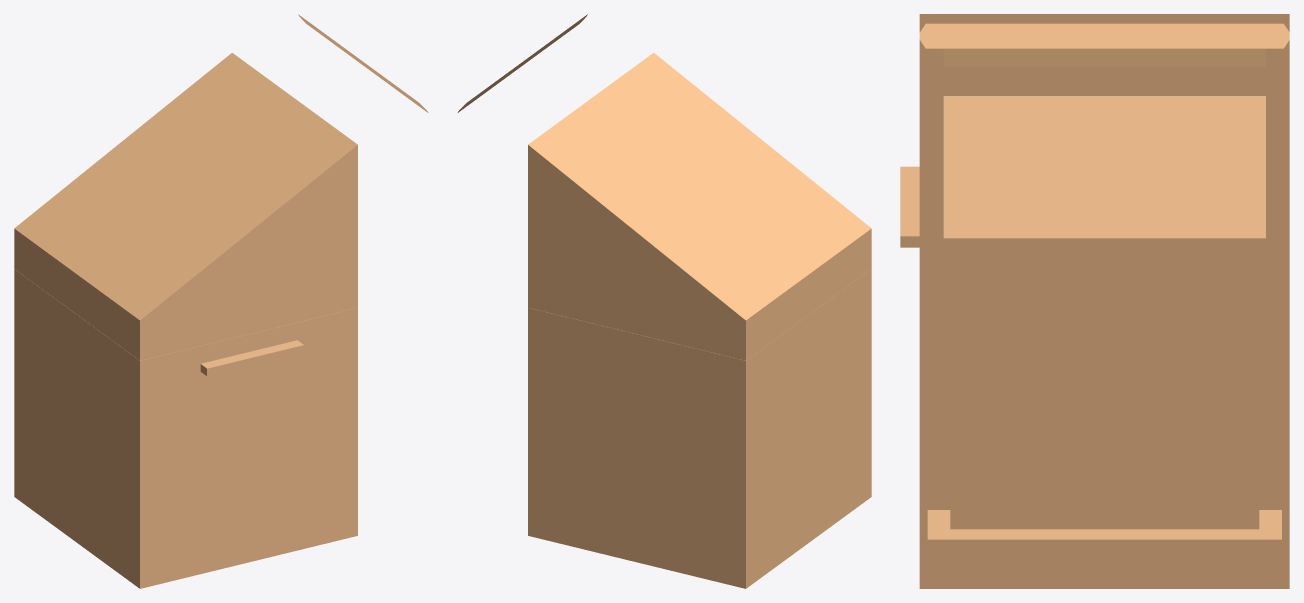
The model's file is hive-top.glb.
The picture shows the model from 3 angles, left to right: view 1: azimuth 30°, elevation 25°; view 2: azimuth 150°, elevation 25°; view 3: azimuth 270°, elevation 25°; orthographic projection. The views are drawn at different scales.
Visible parts, largest first — view 1: Cube.002, Cube, Cube.003, Cube.001; view 2: Cube.002, Cube, Cube.001; view 3: Cube.002, Cube, Cube.001, Cube.003.
Boxes of the visible parts, x1,y1,x2,y2 form: Cube.002: [14, 269, 357, 588]; Cube: [14, 53, 357, 360]; Cube.003: [200, 340, 303, 376]; Cube.001: [298, 14, 428, 112]; Cube.002: [528, 269, 871, 588]; Cube: [528, 53, 871, 360]; Cube.001: [457, 14, 587, 112]; Cube.002: [919, 253, 1289, 588]; Cube: [919, 14, 1289, 253]; Cube.001: [919, 23, 1289, 48]; Cube.003: [900, 166, 919, 247].
Size of the model in its own units: 2.67 by 3.65 by 2.11.
